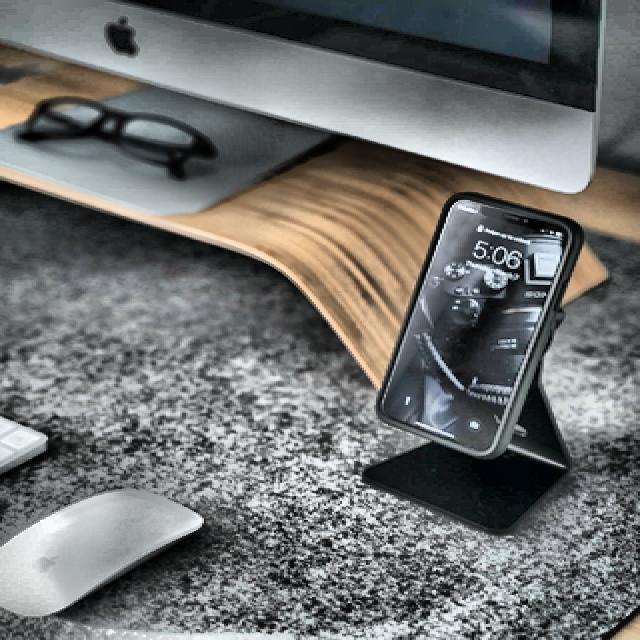Phone: (374, 190, 586, 458)
